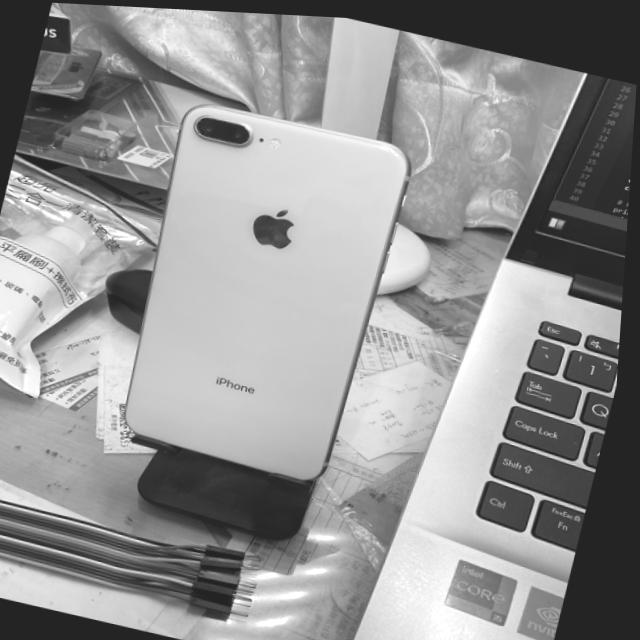Smartphone: (130, 102, 411, 477)
